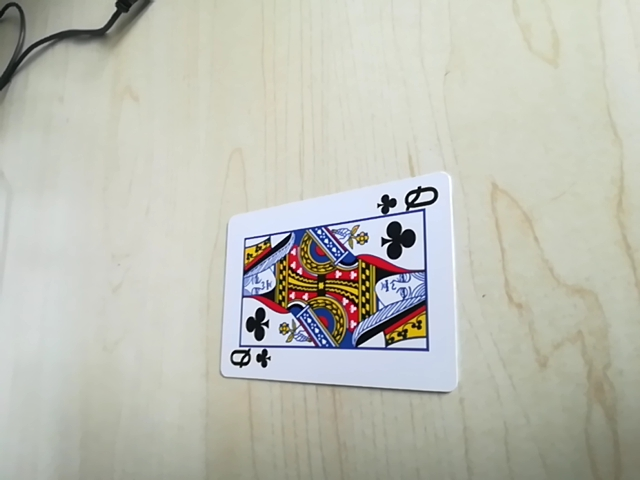mh q: (376, 183, 443, 217), (222, 342, 274, 375)
